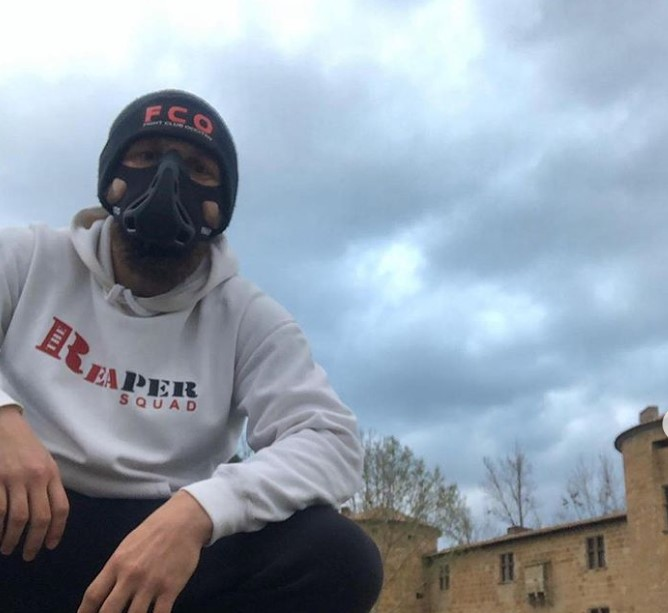face_with_mask: (95, 87, 240, 266)
